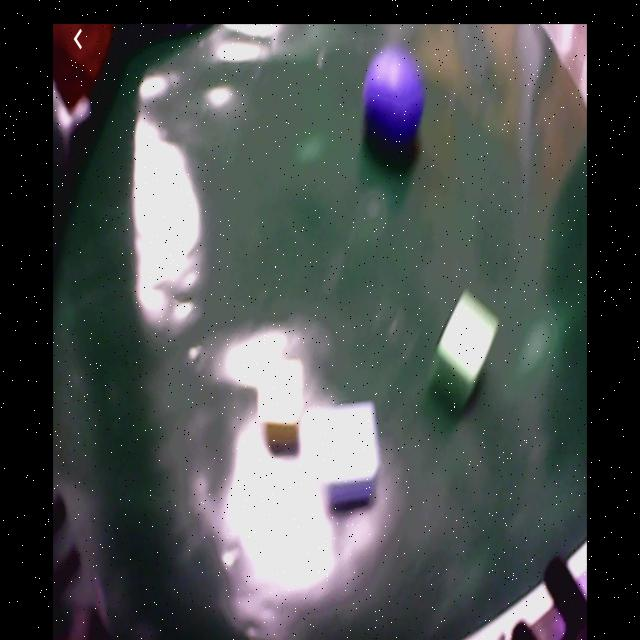ball: (366, 51, 425, 140)
